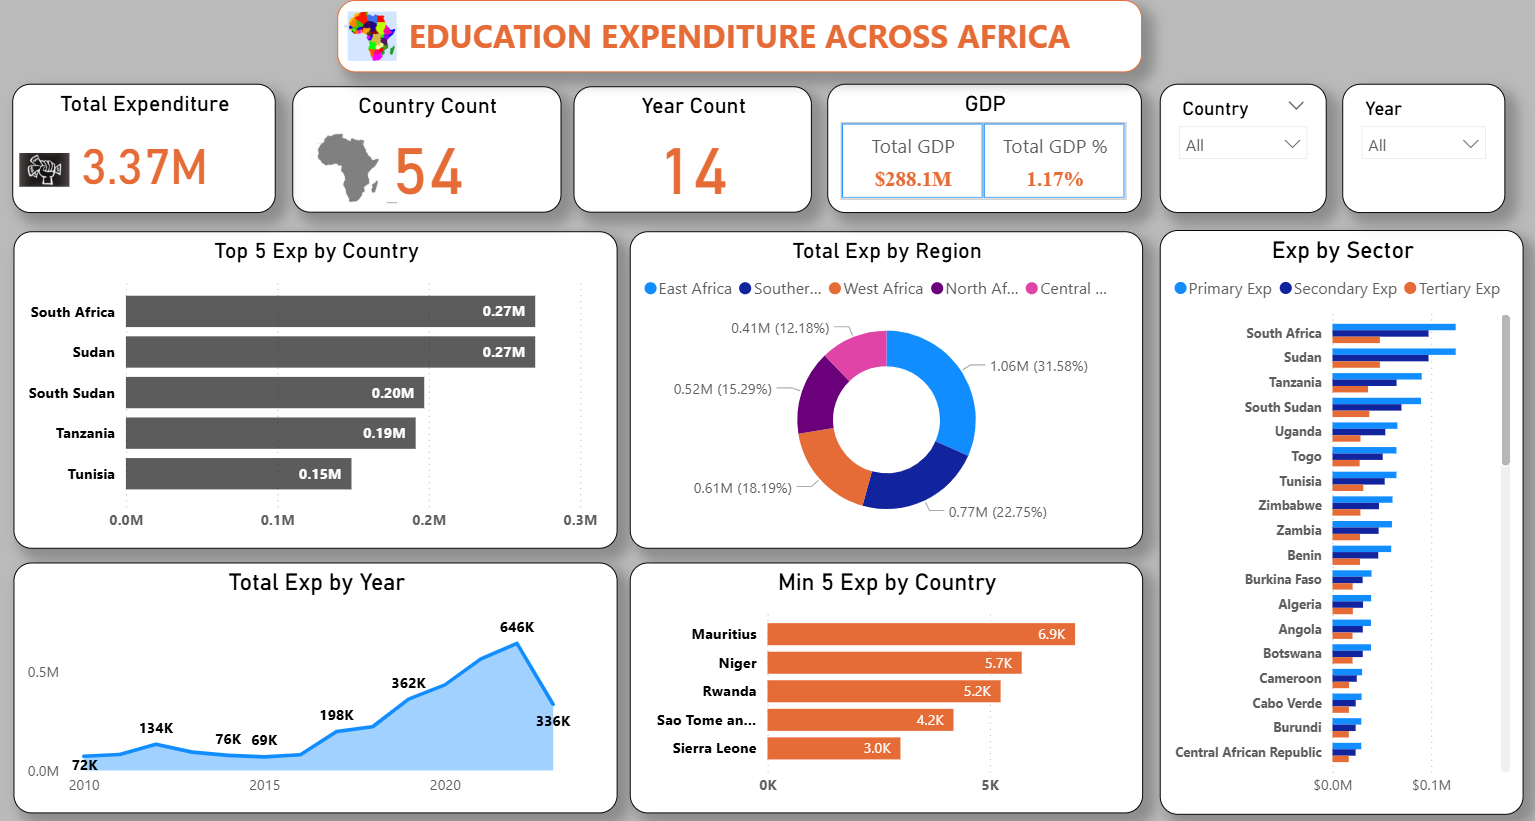

This screenshot's page, from the dashboard's own definition file:
{"tool":"powerbi","page":{"name":"Home Page","canvas":[1280,720],"ordinal":0},"visuals":[{"type":"barChart","title":"Top 5 Exp by Country","fields":{"Category":["Country.Country"],"Y":["All measures.Total Exp"]},"box":[14.9,229,501.1,263.2],"z":0},{"type":"card","title":"Country Count","fields":{"Values":["All measures.Total Country"]},"box":[245.7,107.1,222.9,107.1],"z":1000},{"type":"card","title":"Total Expenditure","fields":{"Values":["All measures.Total Exp"]},"box":[14.3,108.6,218.6,105.7],"z":2000},{"type":"card","title":"Year Count","fields":{"Values":["All measures.Year Count"]},"box":[478.6,108.6,198.6,107.1],"z":3000},{"type":"areaChart","fields":{"Category":["Yeah.Year"],"Y":["All measures.Total Exp"]},"box":[14.9,504.1,501.1,208.2],"z":4000},{"type":"slicer","fields":{"Values":["Country.Country"]},"box":[965,111.2,138.8,105],"z":5000},{"type":"donutChart","fields":{"Category":["Education in General.Region"],"Y":["All measures.Total Exp"]},"box":[524.9,229,425.3,263.2],"z":7000},{"type":"barChart","title":"Min 5 Exp by Country","fields":{"Category":["Country.Country"],"Y":["All measures.Total Exp"]},"box":[524.9,504.1,425.3,208.2],"z":8000},{"type":"clusteredBarChart","title":"Exp by Sector","fields":{"Y":["All measures.Total Pri Exp","All measures.Total Sec Exp","All measures.Total Ter Exp"],"Category":["Education in General.Country"]},"box":[965,228.3,301.7,485],"z":9000},{"type":"image","box":[15,141.2,51.2,75],"z":10000},{"type":"image","box":[246.2,123.8,93.8,106.2],"z":11000},{"type":"cardVisual","title":"GDP","fields":{"Data":["All measures.Total GDP","All measures.Total GDP %"]},"box":[690,108.8,260,107.5],"z":12000},{"type":"textbox","box":[282.5,37.5,667.5,60],"z":13000},{"type":"image","box":[270,37.5,75,60],"z":15500},{"type":"slicer","fields":{"Values":["Yeah.Year"]},"box":[1116.2,107.5,135,107.5],"z":16000}]}

Visuals, with their boxes in screenshot pixels (x1, y1, x2, y2):
"Top 5 Exp by Country" barChart: crop(10, 224, 615, 542)
"Country Count" card: crop(288, 77, 557, 206)
"Total Expenditure" card: crop(9, 79, 273, 207)
"Year Count" card: crop(569, 79, 809, 208)
areaChart - Yeah.Year x All measures.Total Exp: crop(10, 556, 615, 807)
slicer - Country.Country: crop(1156, 82, 1324, 209)
donutChart - Education in General.Region x All measures.Total Exp: crop(625, 224, 1138, 542)
"Min 5 Exp by Country" barChart: crop(625, 556, 1138, 807)
"Exp by Sector" clusteredBarChart: crop(1156, 223, 1520, 809)
image: crop(10, 118, 72, 209)
image: crop(289, 97, 402, 226)
"GDP" cardVisual: crop(824, 79, 1138, 209)
textbox: crop(333, 0, 1138, 66)
image: crop(318, 0, 408, 66)
slicer - Yeah.Year: crop(1339, 78, 1502, 207)
